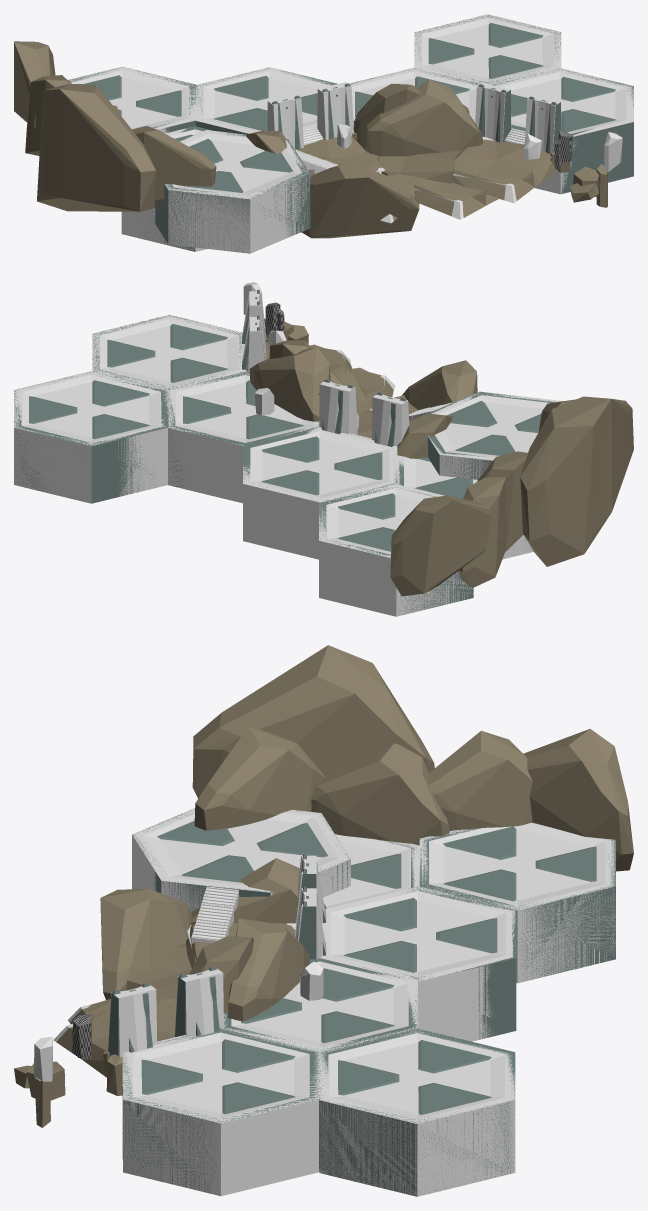
3 renders of one model, top to bottom at view 1: azimuth 30°, elevation 25°; view 2: azimuth 150°, elevation 25°; view 3: azimuth 270°, elevation 25°, orthographic. The views are drawn at different scales.
Visible parts, largest first — view 1: Cylinder.045, Cylinder.034, Cylinder.044, Cylinder.041, Cylinder.009, Cylinder.040, Cylinder.005, Cylinder.006, ground .002, Cylinder.021, Cylinder.002, Cylinder.030 (+29 smaller); view 2: Cylinder.009, Cylinder.034, Cylinder.021, Cylinder.002, Cylinder.011, Cylinder.008, Cylinder.006, Cylinder.038, Cylinder.045, Cylinder.001, Cylinder.043, Cylinder.033 (+23 smaller); view 3: Cylinder.006, Cylinder.009, Cylinder.034, Cylinder.002, Cylinder.021, Cylinder.008, Cylinder.001, Cylinder.005, Cylinder.045, Cylinder.032, Cylinder.038, Cylinder.030 (+22 smaller).
Part boxes in pixels (x1,y1,x2,y2): Cylinder.045: [165, 130, 309, 253]; Cylinder.034: [37, 84, 155, 211]; Cylinder.044: [155, 132, 310, 252]; Cylinder.041: [366, 79, 483, 156]; Cylinder.009: [414, 14, 561, 84]; Cylinder.040: [301, 161, 419, 238]; Cylinder.005: [493, 68, 633, 193]; Cylinder.006: [492, 68, 633, 194]; ground .002: [453, 139, 561, 201]; Cylinder.021: [196, 67, 334, 133]; Cylinder.002: [68, 66, 195, 133]; Cylinder.030: [132, 126, 216, 206]; Cylinder.009: [14, 371, 168, 503]; Cylinder.034: [520, 396, 633, 566]; Cylinder.021: [243, 427, 397, 559]; Cylinder.002: [319, 484, 473, 616]; Cylinder.011: [168, 371, 319, 503]; Cylinder.008: [14, 371, 168, 503]; Cylinder.006: [92, 315, 246, 389]; Cylinder.038: [390, 495, 501, 596]; Cylinder.045: [428, 392, 563, 479]; Cylinder.001: [319, 487, 473, 614]; Cylinder.043: [249, 347, 330, 421]; Cylinder.033: [527, 399, 611, 540]; Cylinder.006: [122, 1028, 318, 1196]; Cylinder.009: [319, 1028, 515, 1196]; Cylinder.034: [192, 645, 434, 798]; Cylinder.002: [419, 822, 615, 983]; Cylinder.021: [320, 886, 515, 1041]; Cylinder.008: [319, 1028, 515, 1196]; Cylinder.001: [419, 822, 615, 980]; Cylinder.005: [122, 1028, 318, 1193]; Cylinder.045: [132, 808, 350, 912]; Cylinder.032: [311, 743, 449, 845]; Cylinder.038: [523, 729, 633, 871]; Cylinder.030: [195, 726, 325, 830].
Size of the model in its own units: 138 by 40.22 by 104.
3 materials, 1 textured.
